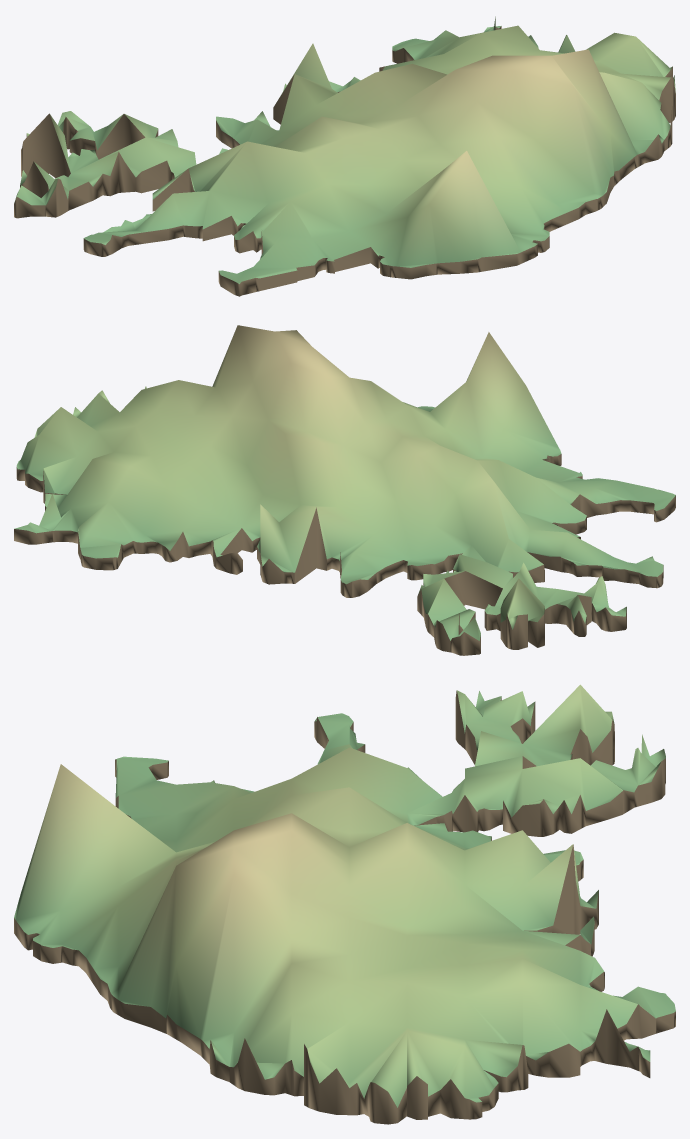
Rendered from ISL.glb.
3 views of the same model, one above another, from view 1: azimuth 30°, elevation 25°; view 2: azimuth 150°, elevation 25°; view 3: azimuth 270°, elevation 25° (orthographic). The views are drawn at different scales.
Visible parts, largest first — view 1: ISL; view 2: ISL; view 3: ISL.
Part boxes in pixels (left/top/right/bottom): ISL: left=14, top=16, right=675, bottom=296; ISL: left=14, top=325, right=675, bottom=655; ISL: left=14, top=684, right=675, bottom=1124.
Bounding box in the file's own units: 1.81 × 0.338 × 1.25.
